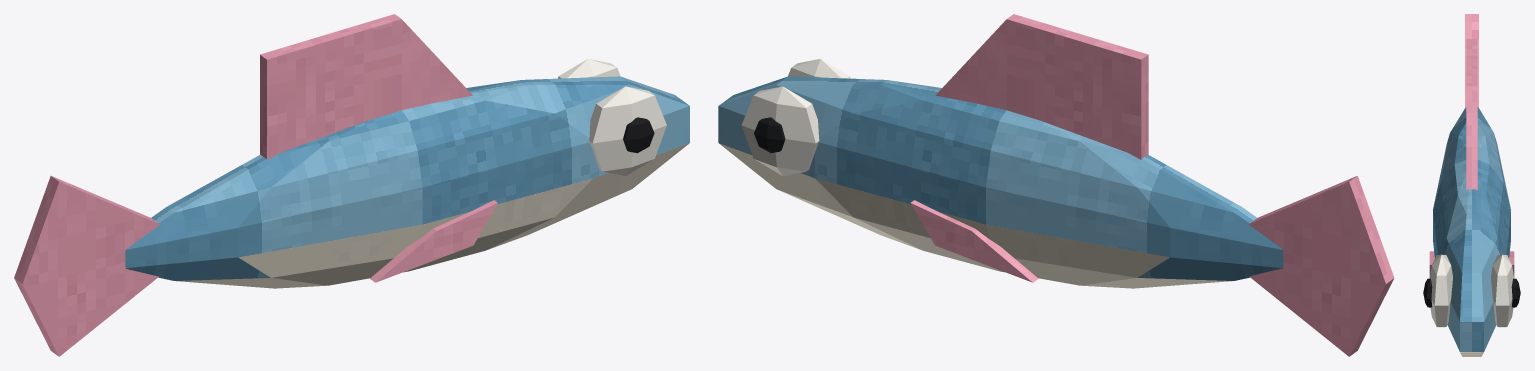
3 renders of one model, left to right at view 1: azimuth 30°, elevation 25°; view 2: azimuth 150°, elevation 25°; view 3: azimuth 270°, elevation 25°, orthographic. The views are drawn at different scales.
Parts seen in each view (by area): view 1: Fish_trout; view 2: Fish_trout; view 3: Fish_trout.
Part boxes in pixels (left/top/right/bottom): Fish_trout: left=14, top=14, right=689, bottom=356; Fish_trout: left=718, top=14, right=1394, bottom=356; Fish_trout: left=1423, top=14, right=1520, bottom=356.
Size of the model in its own units: 0.5418 by 0.1989 by 0.0852.
Materials: 5 (5 with a texture image).
